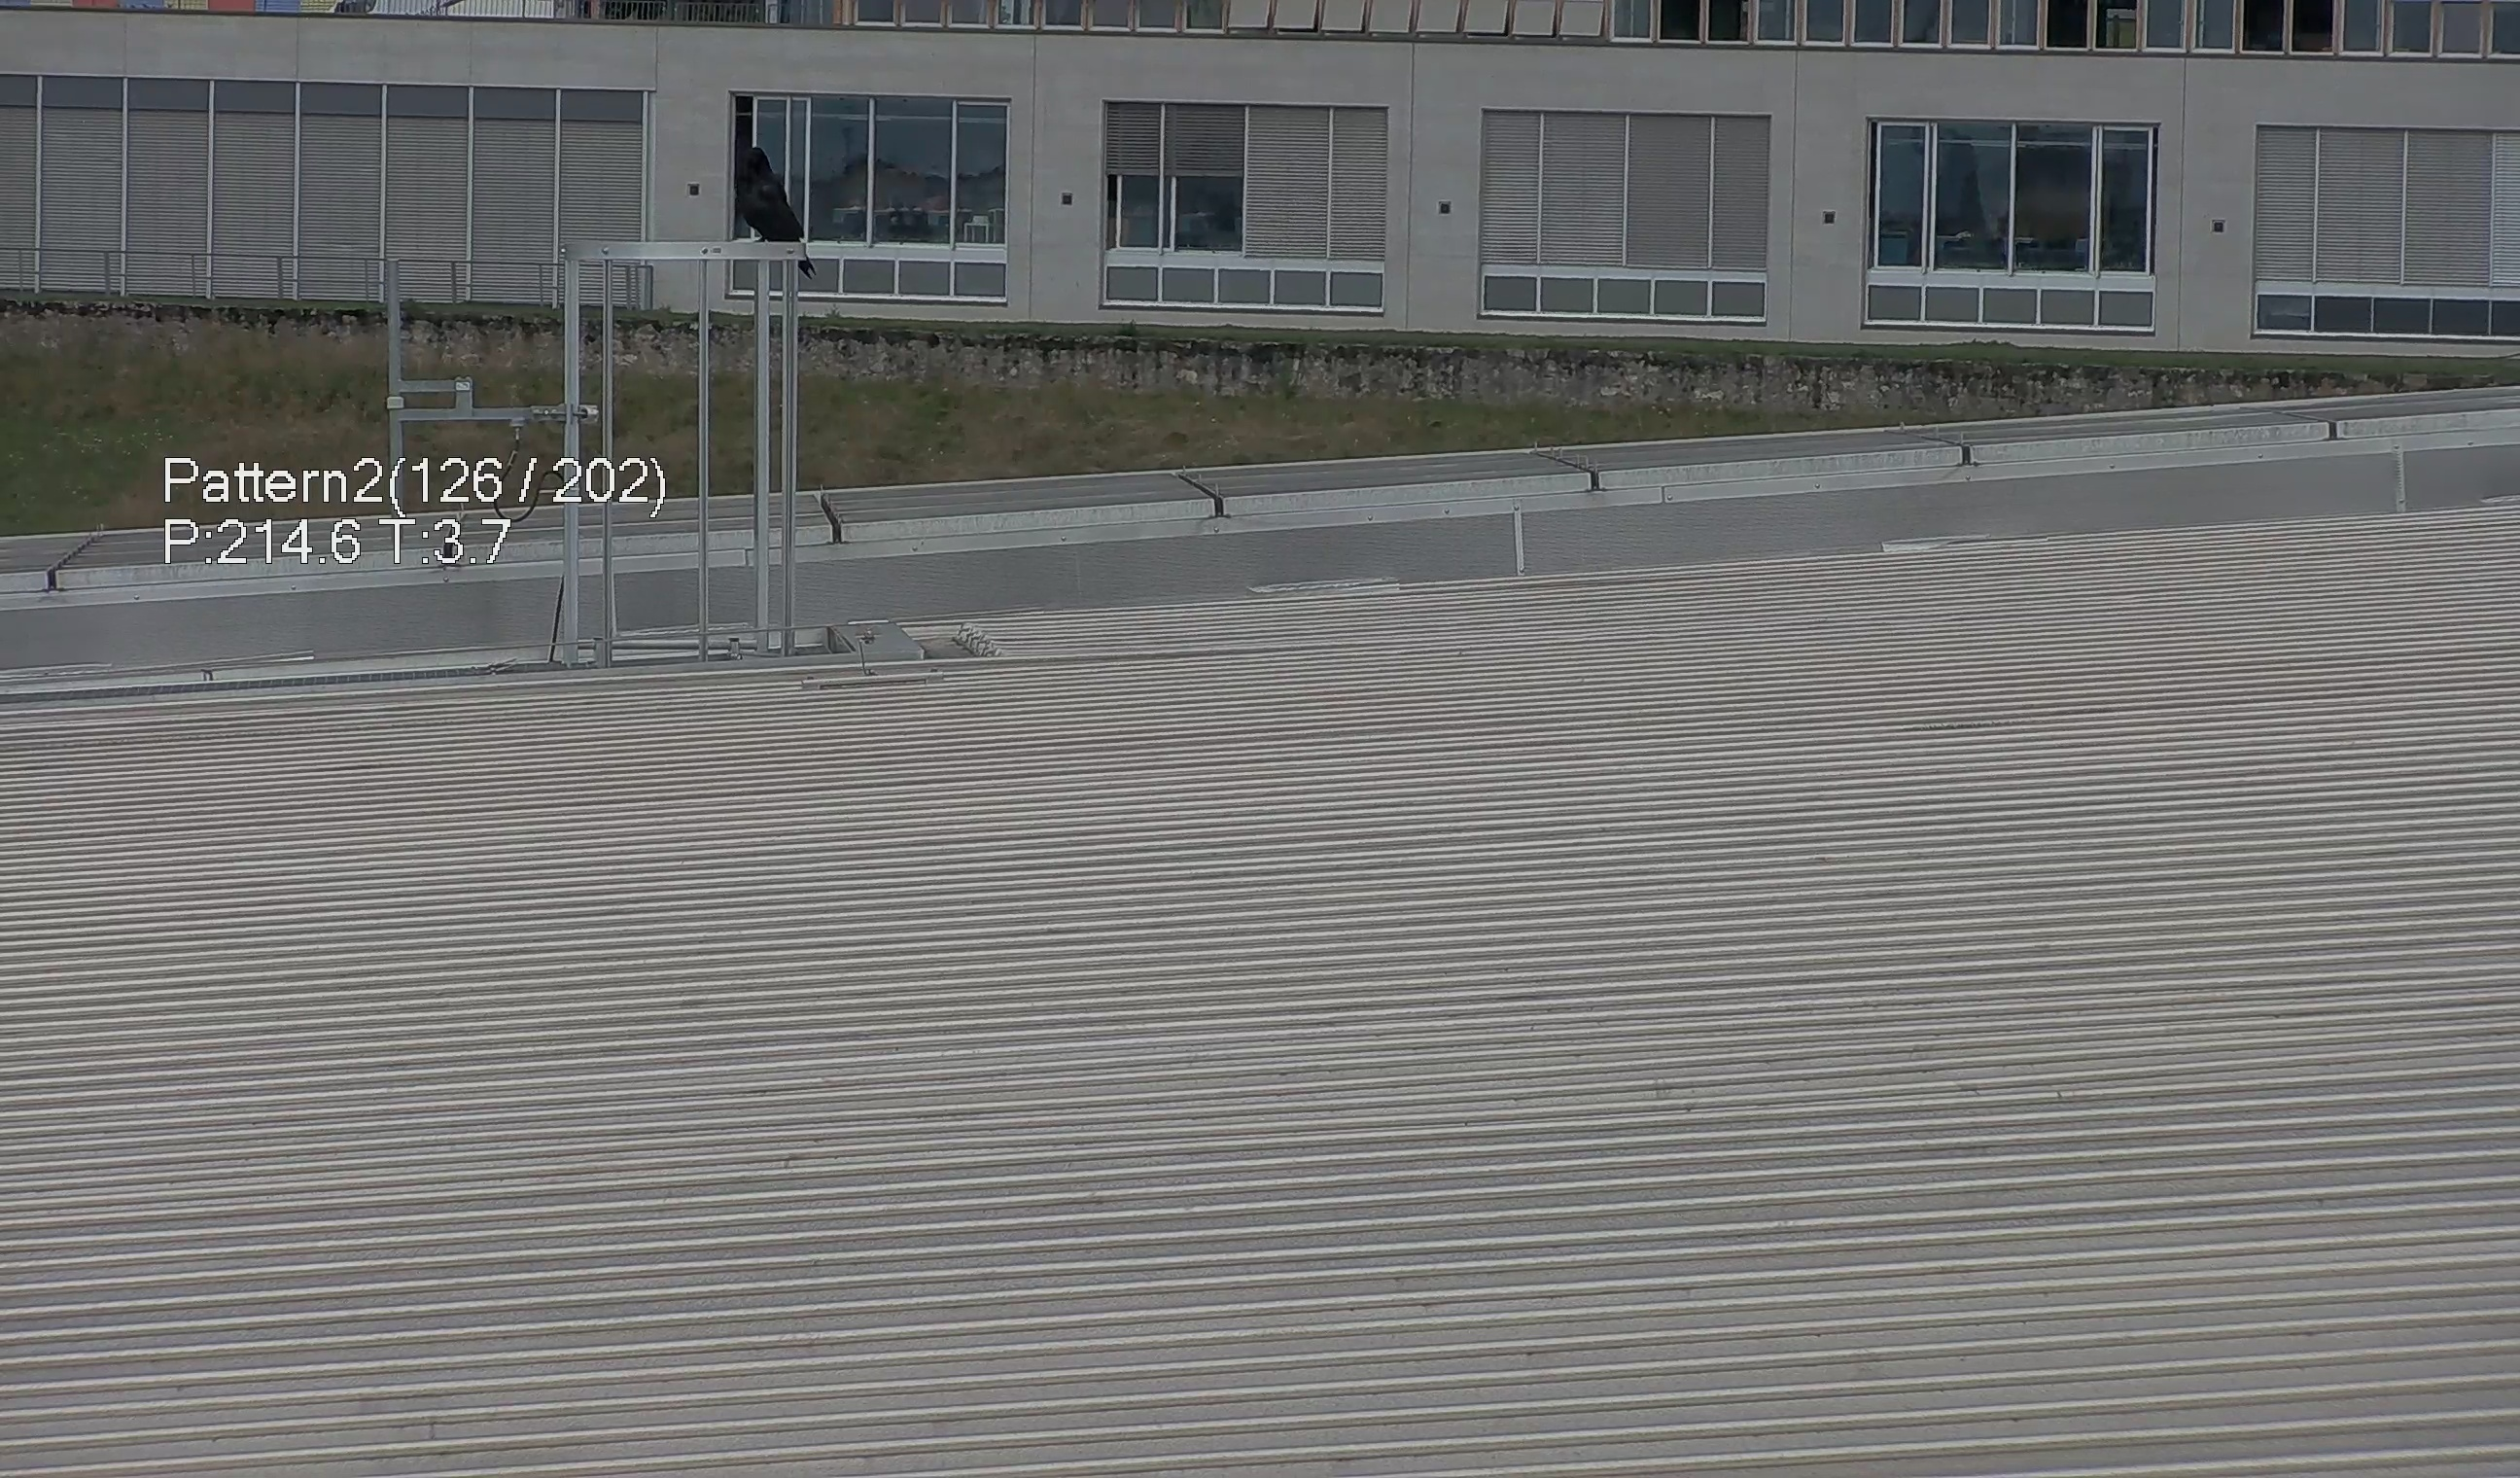Pigeon: (717, 137, 802, 248)
